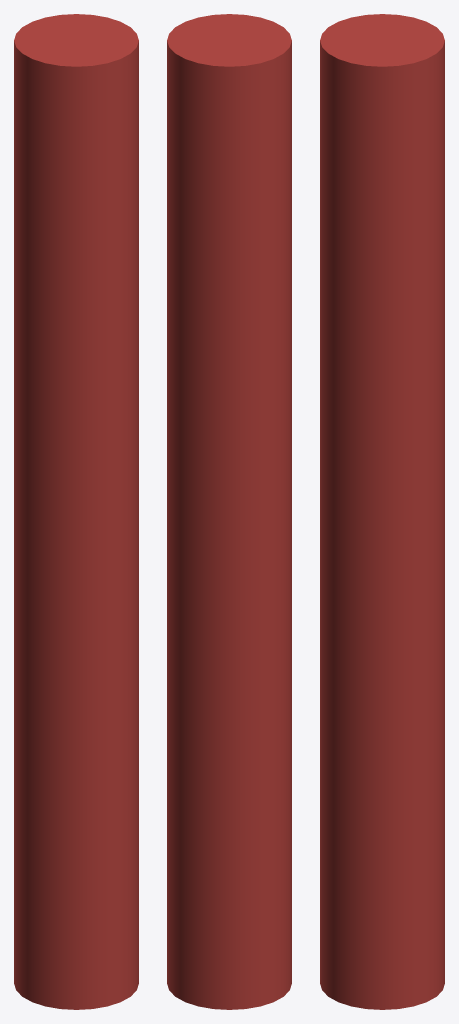
Rendered from housing.glb.
3 renders of one model, left to right at view 1: azimuth 90°, elevation 25°; view 2: azimuth 150°, elevation 25°; view 3: azimuth 270°, elevation 25°, orthographic.
Parts seen in each view (by area): view 1: lod0; view 2: lod0; view 3: lod0.
Part boxes in pixels (box(x1,y1,x2,y2)): lod0: box(14, 14, 138, 1009); lod0: box(167, 14, 291, 1009); lod0: box(320, 14, 444, 1009).
Size of what is drawn, in the model's own units: 0.12 by 1 by 0.12.
